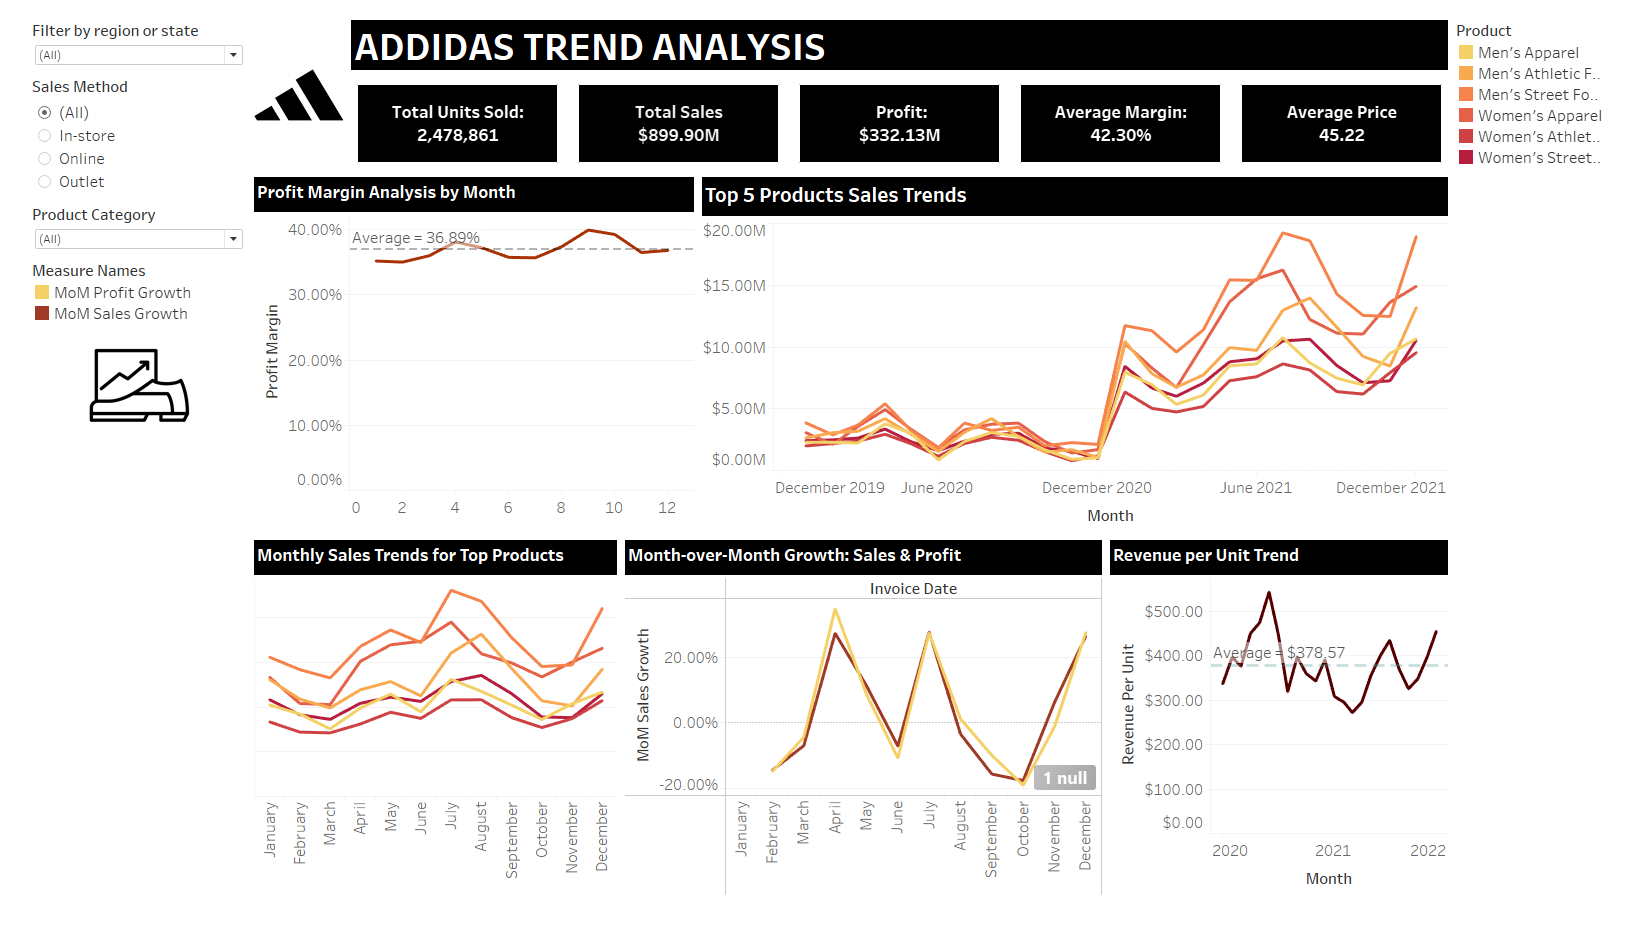

Layout of this report page (visuals, bound fields, positions):
{"tool":"tableau","page":{"name":"Trends Overview","canvas":[1600,900],"ordinal":5},"visuals":[{"type":"filter","title":"Average Margin KPI","param":"[federated.0ea4zig1a5j5q4100k31f01owckk].[none:State:nk]","box":[8,8,222,56]},{"type":"image","param":"Image/adidas.png","box":[230,8,97,157]},{"type":"title","box":[327,8,1105,58]},{"type":"legend","title":"Top 5 Products Sales Trends","param":"[federated.0ea4zig1a5j5q4100k31f01owckk].[none:Product:nk]","box":[1432,8,160,884]},{"type":"filter","title":"Average Margin KPI","param":"[federated.0ea4zig1a5j5q4100k31f01owckk].[none:Sales Method:nk]","box":[8,64,222,128]},{"type":"worksheet","title":"Total Units Sold KPI ","mark":"Automatic","box":[327,66,221,99]},{"type":"worksheet","title":"Total Sales KPI","mark":"Automatic","box":[548,66,221,99]},{"type":"worksheet","title":"Profit KPI","mark":"Automatic","box":[769,66,221,99]},{"type":"worksheet","title":"Average Margin KPI","mark":"Automatic","box":[990,66,221,99]},{"type":"worksheet","title":"Average Price","mark":"Automatic","box":[1211,66,221,99]},{"type":"worksheet","title":"Profit Margin Analysis by Month","mark":"Automatic","rows":["Calculation_713539087043584006"],"cols":["Invoice Date"],"box":[230,165,448.3,363.5]},{"type":"worksheet","title":"Top 5 Products Sales Trends","mark":"Line","rows":["Total Sales"],"cols":["Invoice Date"],"box":[678.3,165,753.7,363.5]},{"type":"filter","title":"Average Margin KPI","param":"[federated.0ea4zig1a5j5q4100k31f01owckk].[none:Product:nk]","box":[8,192,222,56]},{"type":"legend","title":"Month-over-Month Growth ","param":"[federated.0ea4zig1a5j5q4100k31f01owckk].[:Measure Names]","box":[8,248,222,72]},{"type":"image","param":"Image/shop.png","box":[8,320,222,113.5]},{"type":"blank","box":[8,433.5,222,363]},{"type":"worksheet","title":"Sales Trends for Top Products","mark":"Automatic","rows":["Total Sales"],"cols":["Invoice Date"],"box":[230,528.5,370.7,363.5]},{"type":"worksheet","title":"Month-over-Month Growth ","mark":"Automatic","rows":["Calculation_713539087004504064","Calculation_713539087004712961"],"cols":["Invoice Date"],"box":[600.7,528.5,485.4,363.5]},{"type":"worksheet","title":"Revenue per Sale","mark":"Automatic","rows":["Calculation_713539087038263300"],"cols":["Invoice Date"],"box":[1086,528.5,346,363.5]},{"type":"blank","box":[8,796.5,222,95.5]}]}

Visuals, with their boxes in screenshot pixels (x1, y1, x2, y2), scaled from the page's 1600x900 canvas onto the 1641x942 screenshot:
"Average Margin KPI" filter: x1=8, y1=8, x2=236, y2=67
image: x1=236, y1=8, x2=335, y2=173
title: x1=335, y1=8, x2=1469, y2=69
"Top 5 Products Sales Trends" legend: x1=1469, y1=8, x2=1633, y2=934
"Average Margin KPI" filter: x1=8, y1=67, x2=236, y2=201
"Total Units Sold KPI " worksheet: x1=335, y1=69, x2=562, y2=173
"Total Sales KPI" worksheet: x1=562, y1=69, x2=789, y2=173
"Profit KPI" worksheet: x1=789, y1=69, x2=1015, y2=173
"Average Margin KPI" worksheet: x1=1015, y1=69, x2=1242, y2=173
"Average Price" worksheet: x1=1242, y1=69, x2=1469, y2=173
"Profit Margin Analysis by Month" worksheet: x1=236, y1=173, x2=696, y2=553
"Top 5 Products Sales Trends" worksheet (Line marks): x1=696, y1=173, x2=1469, y2=553
"Average Margin KPI" filter: x1=8, y1=201, x2=236, y2=260
"Month-over-Month Growth " legend: x1=8, y1=260, x2=236, y2=335
image: x1=8, y1=335, x2=236, y2=454
blank: x1=8, y1=454, x2=236, y2=834
"Sales Trends for Top Products" worksheet: x1=236, y1=553, x2=616, y2=934
"Month-over-Month Growth " worksheet: x1=616, y1=553, x2=1114, y2=934
"Revenue per Sale" worksheet: x1=1114, y1=553, x2=1469, y2=934
blank: x1=8, y1=834, x2=236, y2=934
